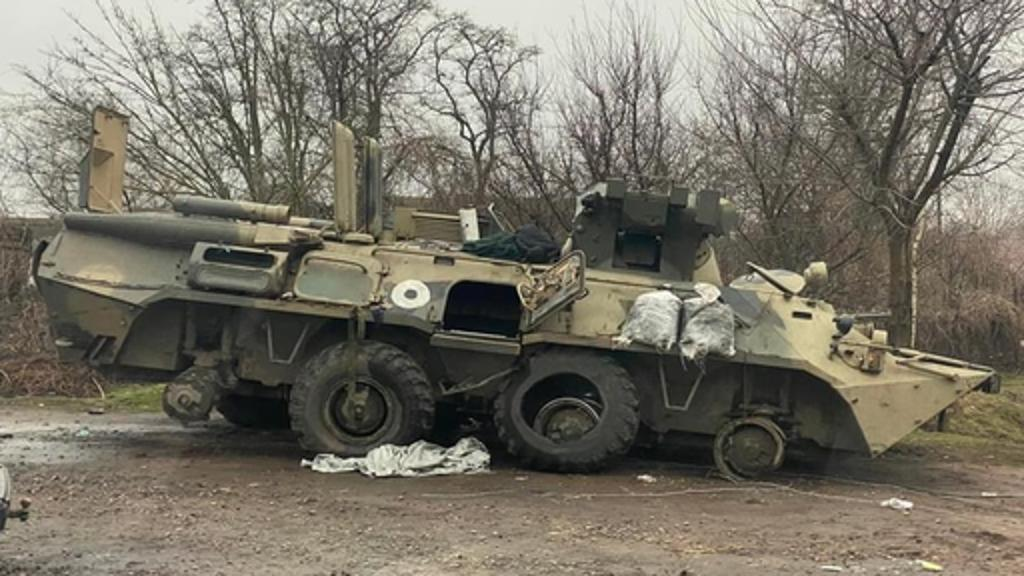APC-IFV: (36, 110, 996, 498)
